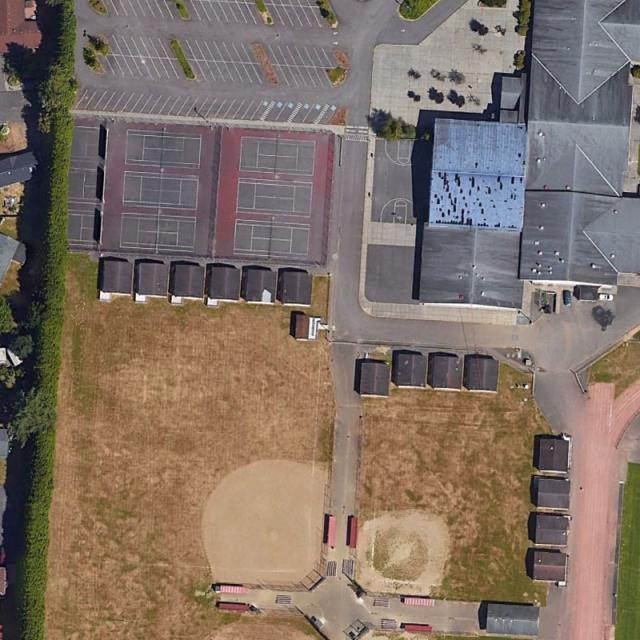vehicle: (598, 294, 614, 301), (564, 290, 570, 306)
